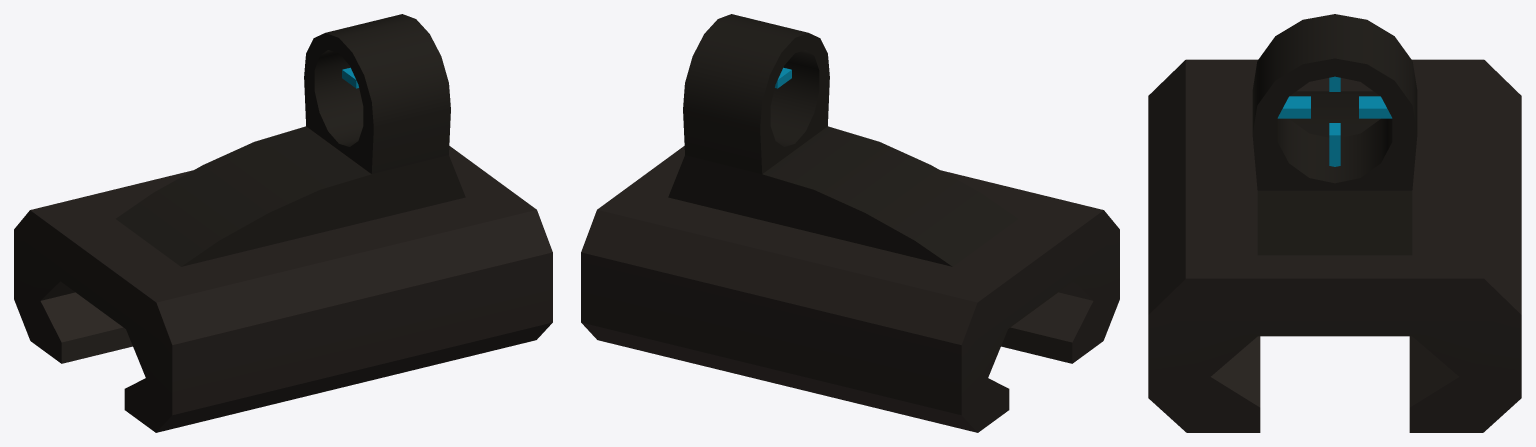
Rendered from SMG8_Sight.fbx.
3 renders of one model, left to right at view 1: azimuth 30°, elevation 25°; view 2: azimuth 150°, elevation 25°; view 3: azimuth 270°, elevation 25°, orthographic. The views are drawn at different scales.
Visible parts, largest first — view 1: SMG8_Sight; view 2: SMG8_Sight; view 3: SMG8_Sight.
Part boxes in pixels (box(x1,y1,x2,y2)): SMG8_Sight: box(14, 14, 552, 432); SMG8_Sight: box(581, 14, 1119, 432); SMG8_Sight: box(1148, 14, 1521, 432).
Bounding box in the file's own units: 5.46 × 3.96 × 3.93.
